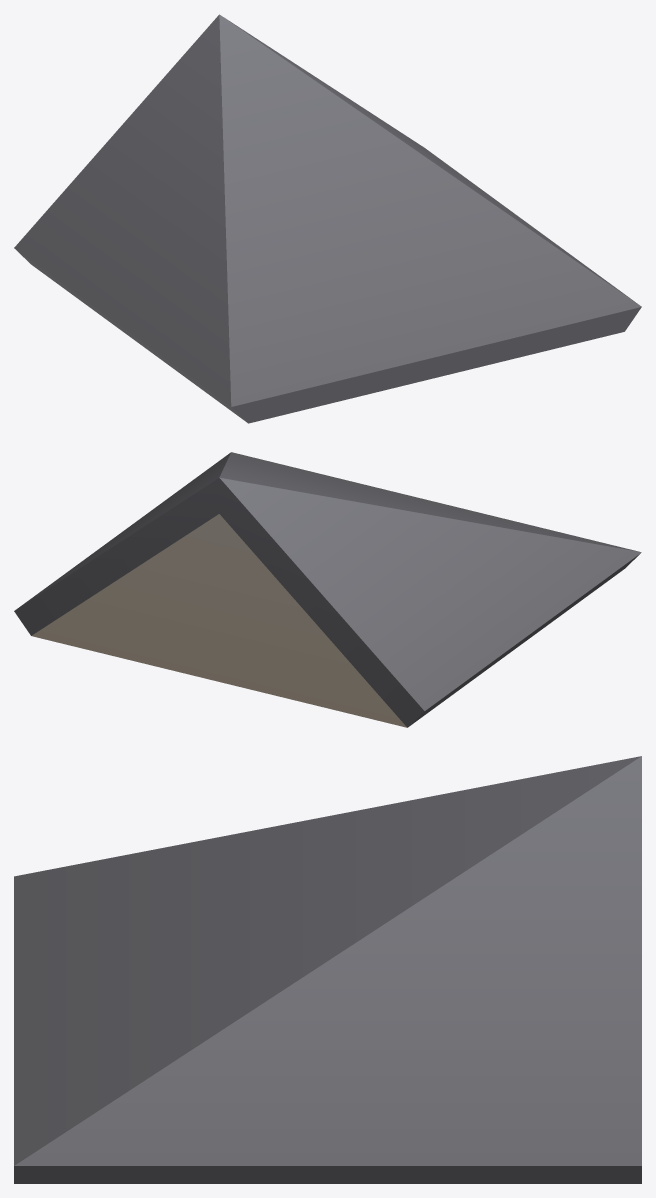
The model's file is roof-gable-end.glb.
3 renders of one model, top to bottom at view 1: azimuth 30°, elevation 25°; view 2: azimuth 150°, elevation 25°; view 3: azimuth 270°, elevation 25°, orthographic. The views are drawn at different scales.
Visible parts, largest first — view 1: roof-gable-end; view 2: roof-gable-end; view 3: roof-gable-end.
Part boxes in pixels (left/top/right/bottom): roof-gable-end: left=14, top=14, right=641, bottom=423; roof-gable-end: left=14, top=452, right=641, bottom=727; roof-gable-end: left=14, top=756, right=641, bottom=1183.
Size of the model in its own units: 1.09 by 0.5188 by 1.
